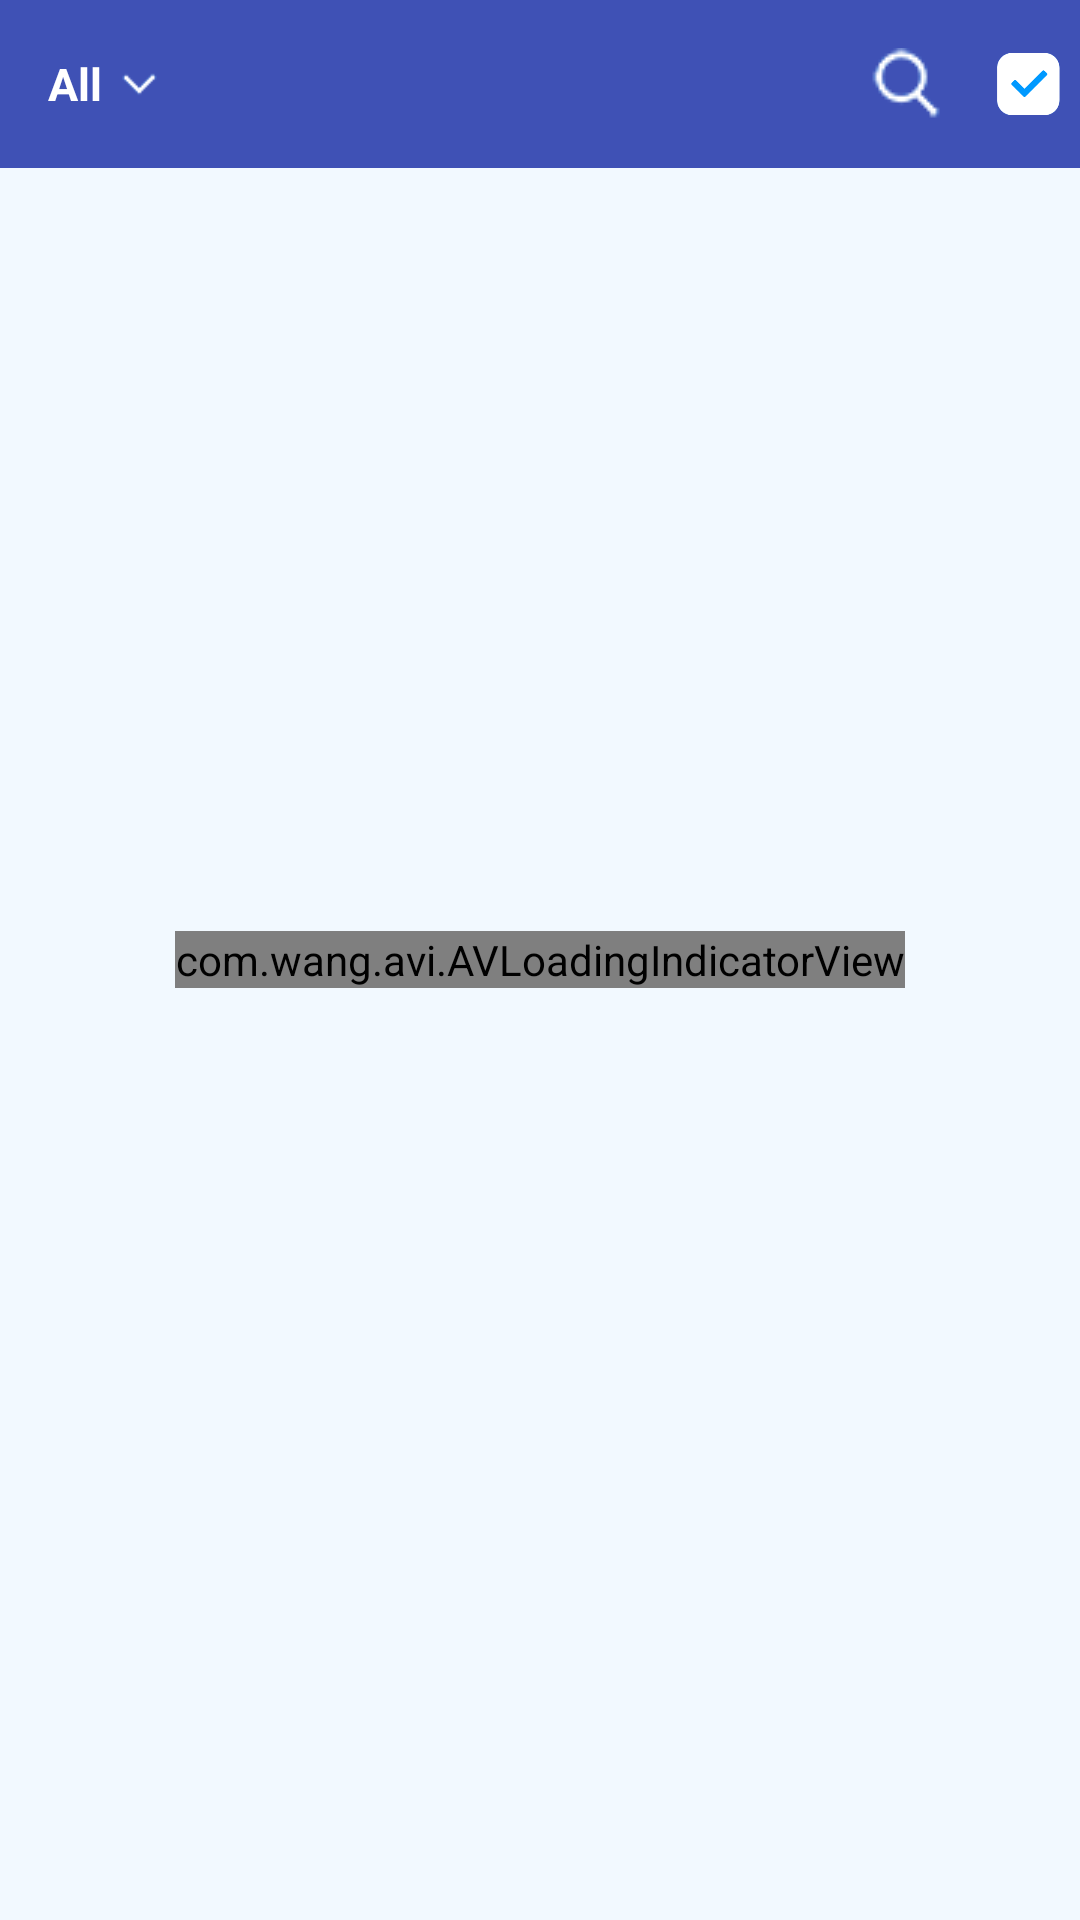

Screen size 1080x1920. Icon name, then its center in pixels as (x,y):
arw: (139,84)
tick bl: (1028,84)
